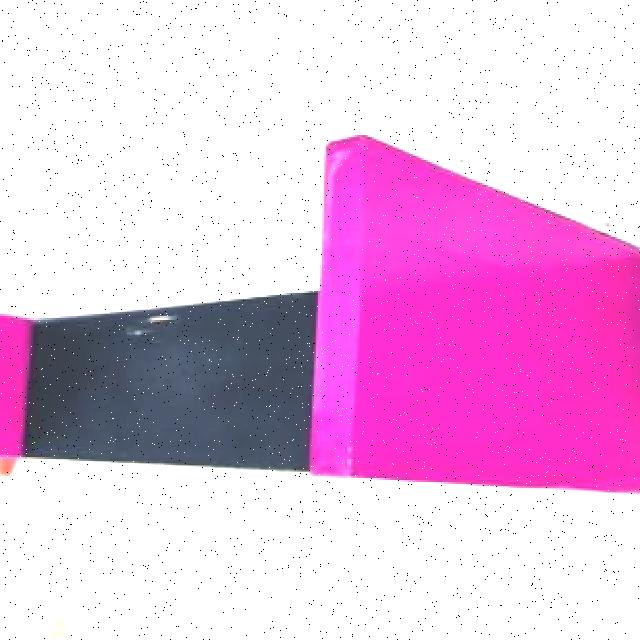xparking: (314, 202, 640, 469), (0, 316, 21, 455)
